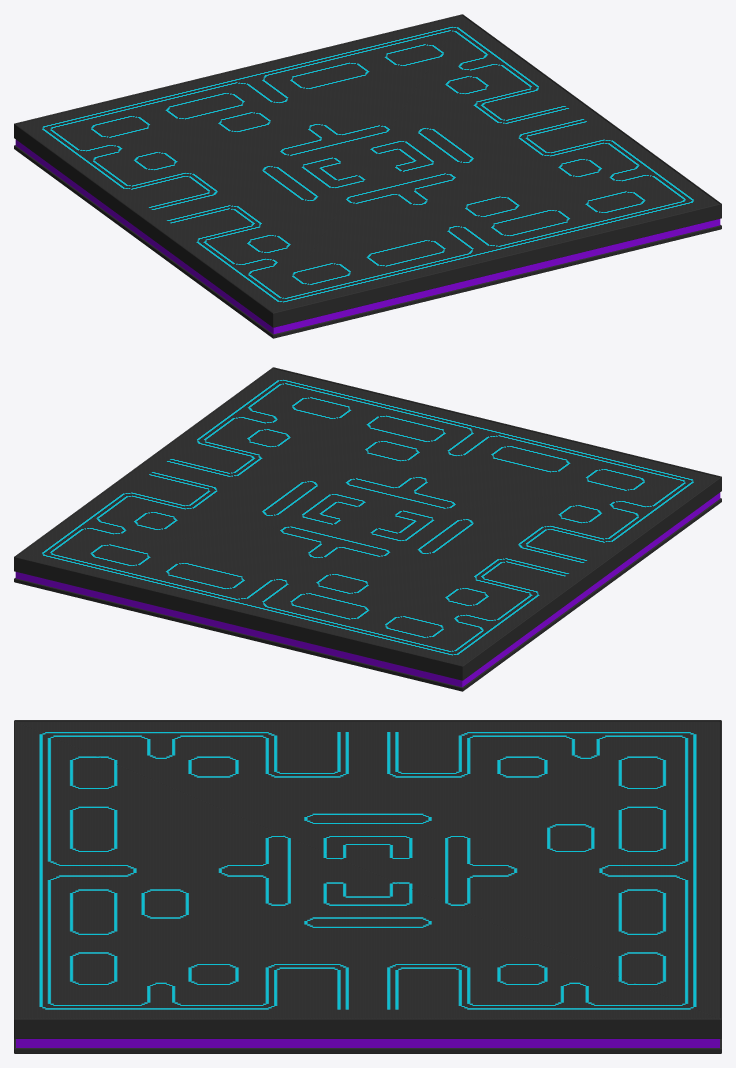
Rendered from Tetris_Floor.fbx.
The picture shows the model from 3 angles, top to bottom: view 1: azimuth 30°, elevation 25°; view 2: azimuth 150°, elevation 25°; view 3: azimuth 270°, elevation 25°; orthographic projection. The views are drawn at different scales.
Visible parts, largest first — view 1: Tetris_Floor; view 2: Tetris_Floor; view 3: Tetris_Floor.
Boxes of the visible parts, x1=… form: Tetris_Floor: x1=14, y1=14, x2=721, y2=338; Tetris_Floor: x1=14, y1=367, x2=721, y2=691; Tetris_Floor: x1=14, y1=720, x2=721, y2=1053.
Size of the model in its own units: 953 by 52.11 by 953.
